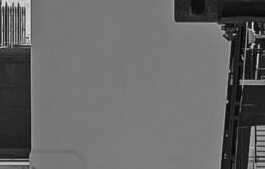Copy of Copy of twist_lock_2: (217, 18, 243, 49)
